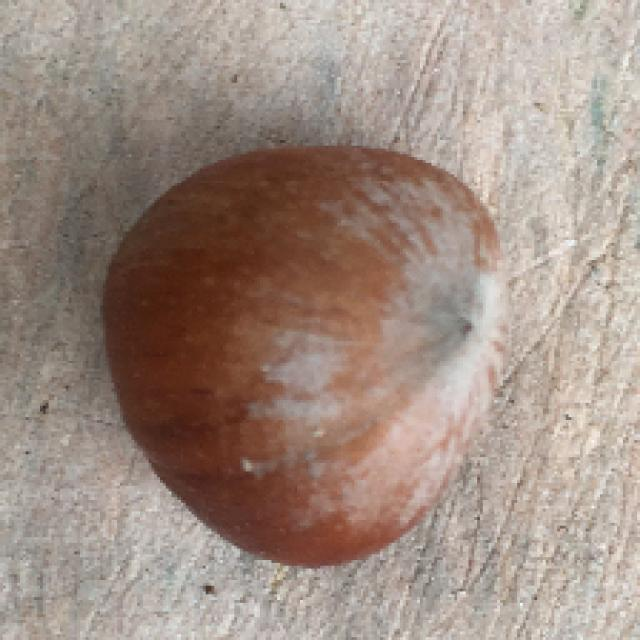qualityHazelnut: (109, 141, 512, 566)
